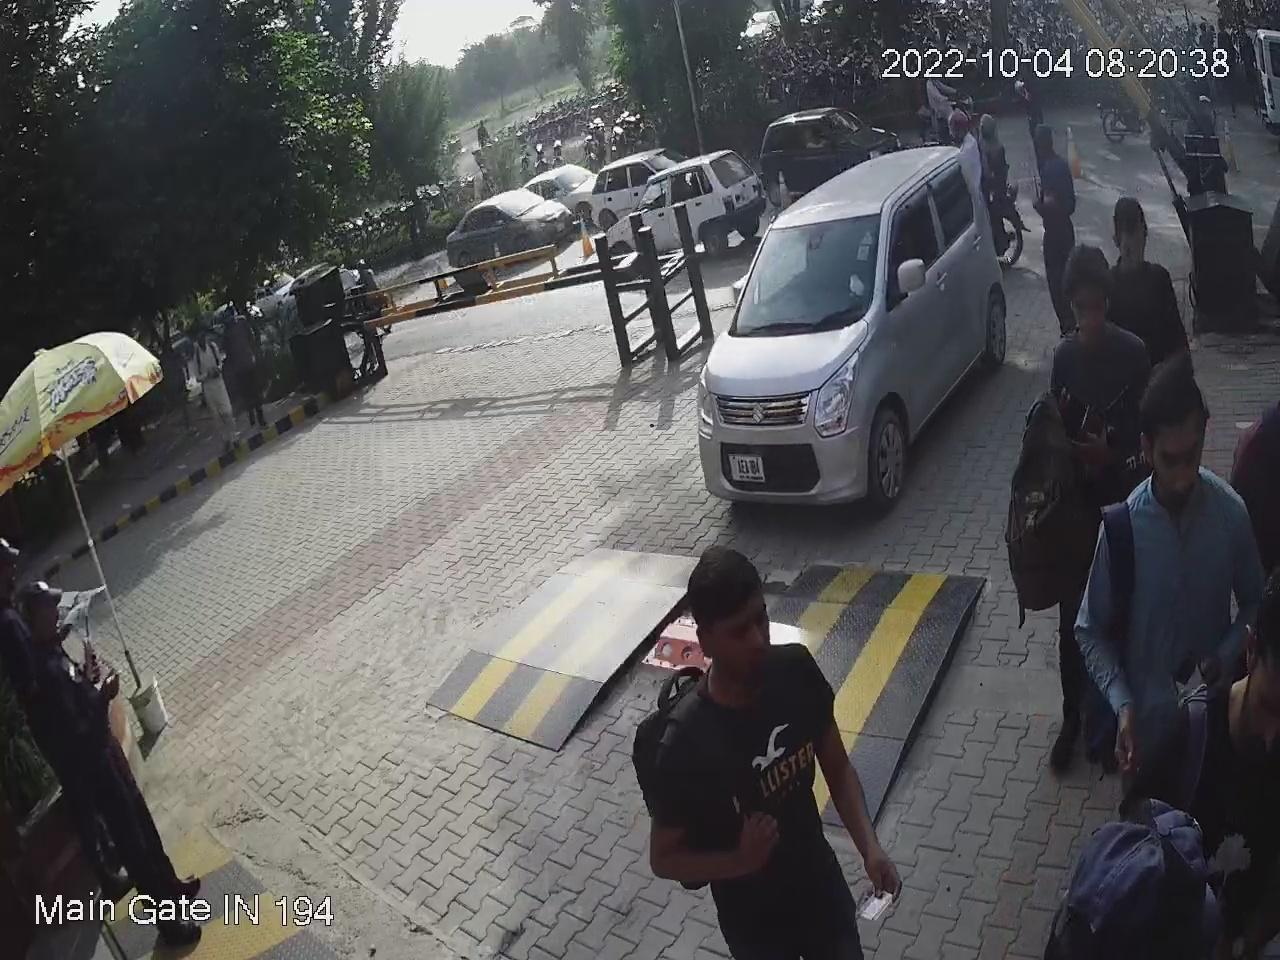windshield: (726, 203, 888, 333)
